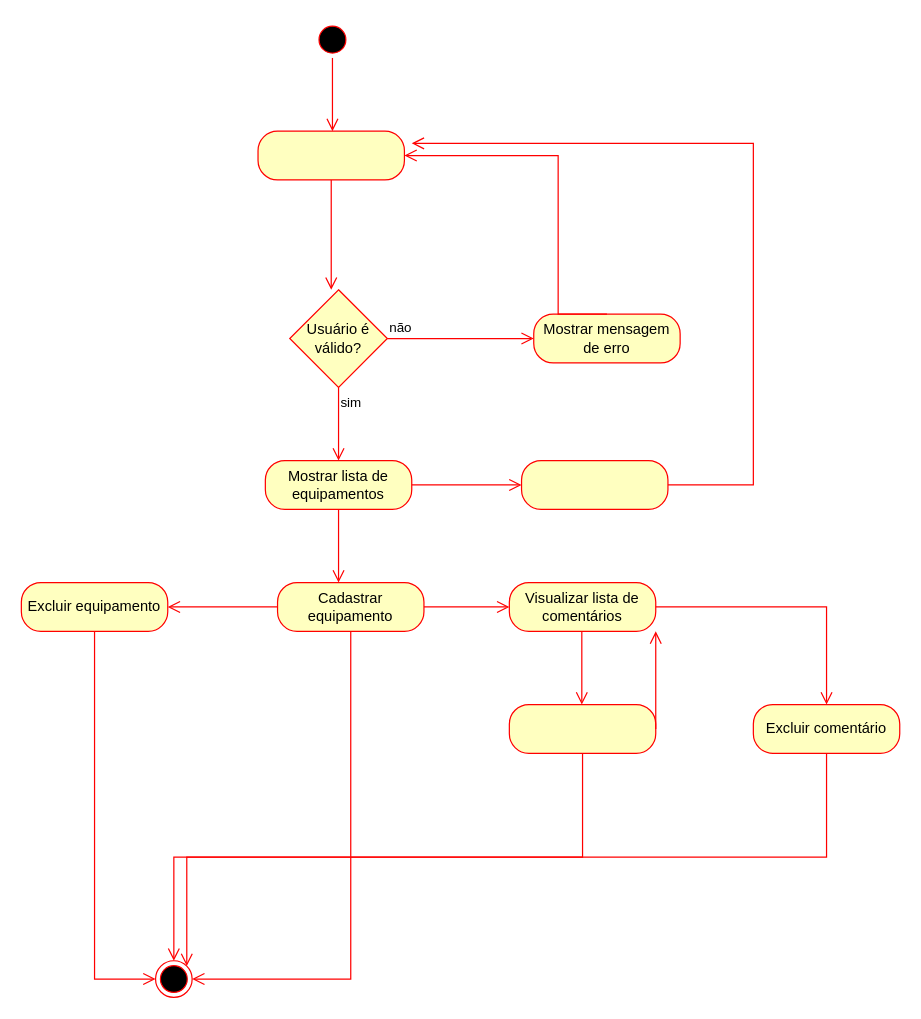
Image size: 921x1019. Some labels were removed from this diagram. The centre of each missing label's shape, as x and y in pixels:
Cadastrar comentário: the point at 582,728
Fazer logout: the point at 594,484
Realizar login: the point at 330,155
